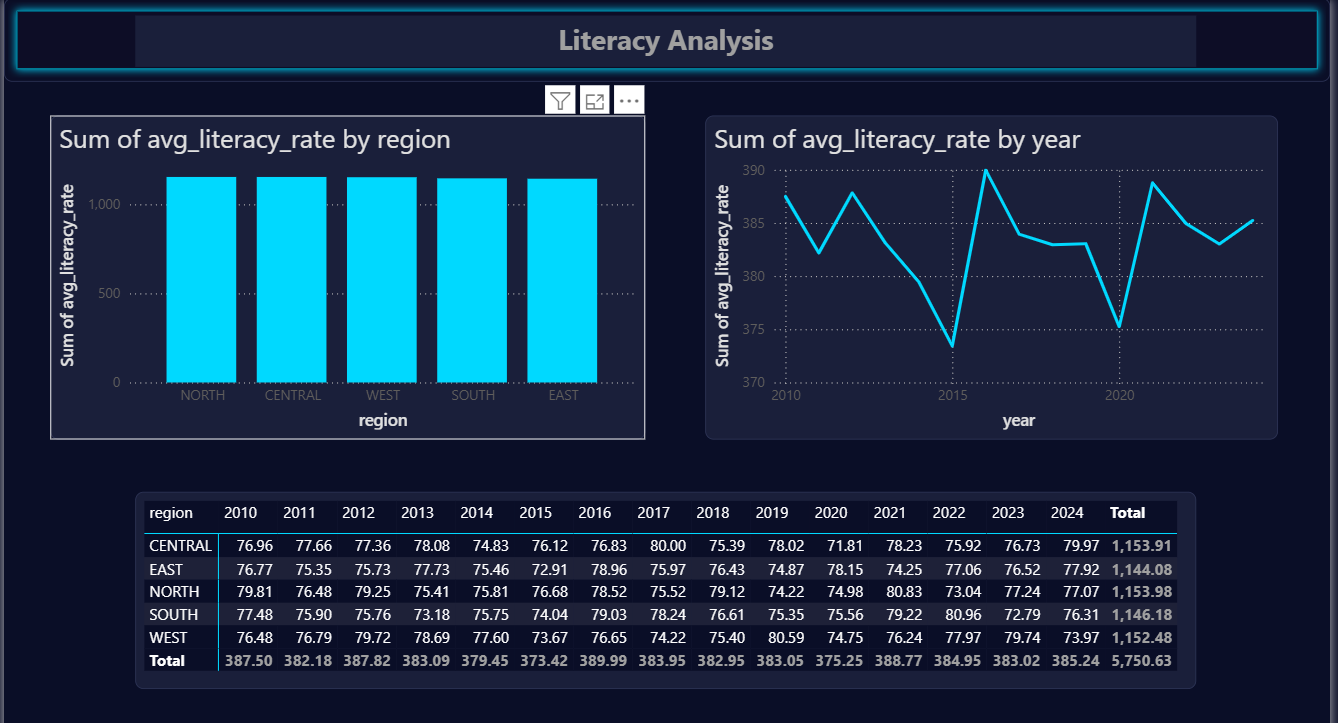

What the dashboard file says about the page in this screenshot:
{"tool":"powerbi","page":{"name":"Page 4","canvas":[1280,720],"ordinal":3},"visuals":[{"type":"shape","box":[0,0,1280,80.8],"z":0},{"type":"textbox","box":[126.7,16.9,1024.3,49.5],"z":1000},{"type":"columnChart","fields":{"Category":["gold_literacy_rate.region"],"Y":["Sum(gold_literacy_rate.avg_literacy_rate)"]},"box":[44.6,113.4,574.3,312.5],"z":2000},{"type":"lineChart","fields":{"Category":["gold_literacy_rate.year"],"Y":["Sum(gold_literacy_rate.avg_literacy_rate)"]},"box":[676.8,113.4,552.5,312.5],"z":3000},{"type":"pivotTable","fields":{"Rows":["gold_literacy_rate.region"],"Columns":["gold_literacy_rate.year"],"Values":["Sum(gold_literacy_rate.avg_literacy_rate)"]},"box":[126.7,476.5,1024.3,190.6],"z":4000}]}

Visuals, with their boxes on the page's 1280x720 design canvas (x1, y1, x2, y2). These are canvas units, not pixel positions in the 1338x723 screenshot, which may show the page scaled, cropped or inside an application window:
shape: left=0, top=0, right=1280, bottom=81
textbox: left=127, top=17, right=1151, bottom=66
columnChart - gold_literacy_rate.region x Sum(gold_literacy_rate.avg_literacy_rate): left=45, top=113, right=619, bottom=426
lineChart - gold_literacy_rate.year x Sum(gold_literacy_rate.avg_literacy_rate): left=677, top=113, right=1229, bottom=426
pivotTable - gold_literacy_rate.region x gold_literacy_rate.year: left=127, top=476, right=1151, bottom=667
